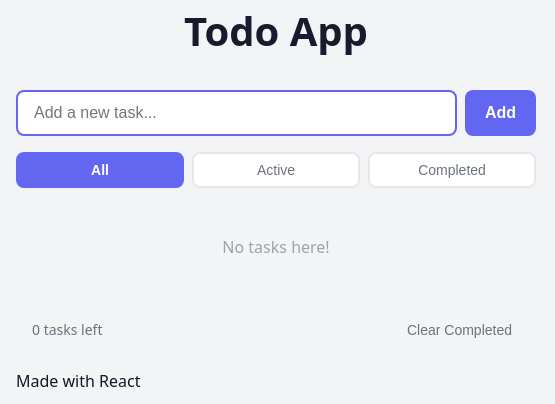
Todo App › adds a new todo
The image size is (555, 404).
Type "Buy milk" into the field with placeholder "Add a new task..." at {"x": 236, "y": 113}, box [16, 90, 457, 136]
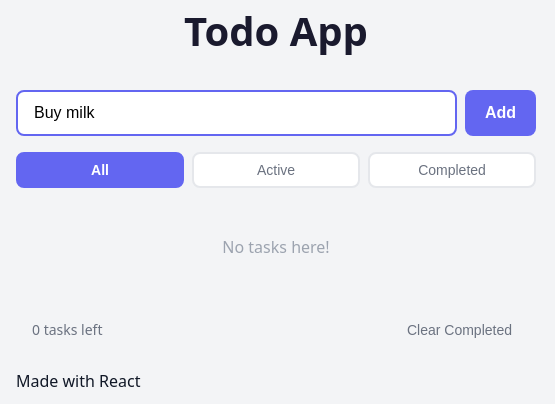
Click the button "Add" at {"x": 500, "y": 113}, box [465, 90, 536, 136]
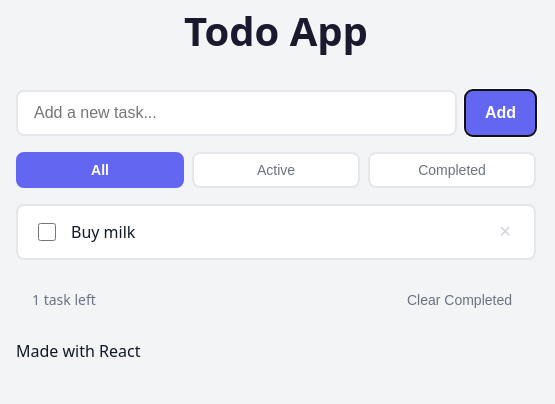
Now the text "Buy milk" is shown, box [71, 221, 135, 243]
